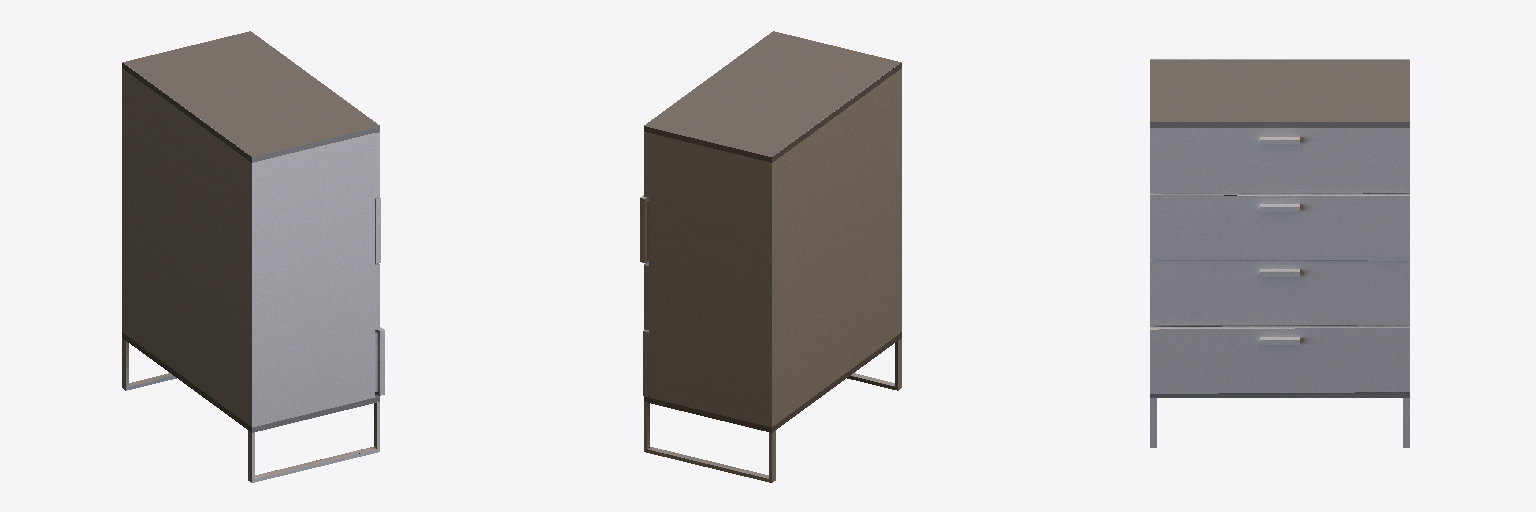
3 views of the same model, side by side, from view 1: azimuth 30°, elevation 25°; view 2: azimuth 150°, elevation 25°; view 3: azimuth 270°, elevation 25° (orthographic).
Parts seen in each view (by area): view 1: Cube_Cube.001; view 2: Cube_Cube.001; view 3: Cube_Cube.001.
Boxes of the visible parts, x1=… form: Cube_Cube.001: x1=122, y1=31, x2=384, y2=482; Cube_Cube.001: x1=640, y1=31, x2=901, y2=482; Cube_Cube.001: x1=1150, y1=59, x2=1409, y2=447.
Size of the model in its own units: 0.8573 by 1.94 by 1.4.
Materials: 2 (1 with a texture image).